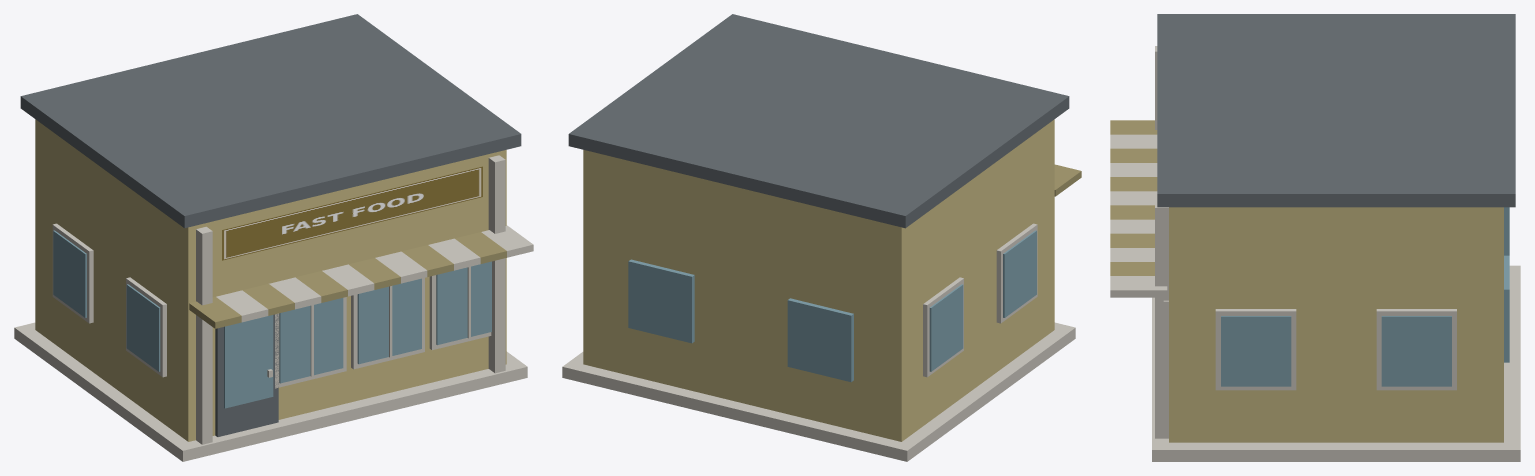
File: fast_food.glb
The picture shows the model from 3 angles, left to right: view 1: azimuth 30°, elevation 25°; view 2: azimuth 150°, elevation 25°; view 3: azimuth 270°, elevation 25°; orthographic projection. The views are drawn at different scales.
Parts seen in each view (by area): view 1: world; view 2: world; view 3: world.
Boxes of the visible parts, x1,y1,x2,y2 form: world: (14, 14, 533, 461); world: (562, 14, 1081, 461); world: (1110, 14, 1520, 461).
Size of the model in its own units: 6.5 by 4.38 by 6.12.
Materials: 2 (1 with a texture image).
